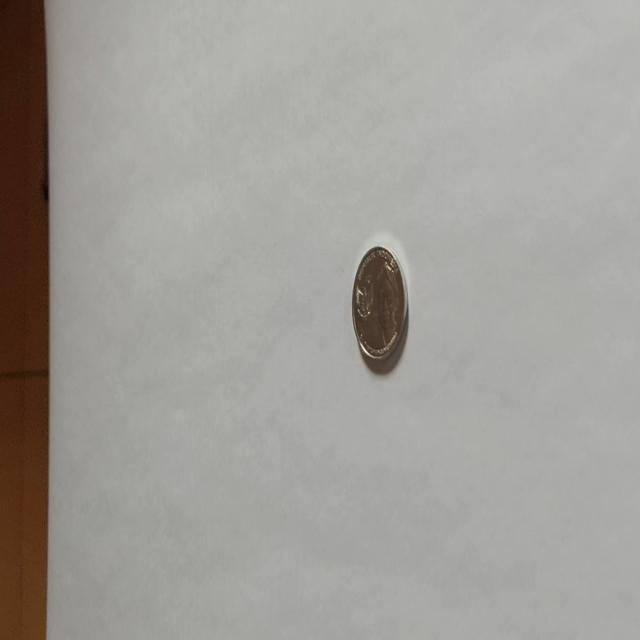dua ratus rupiah: (351, 244, 408, 366)
